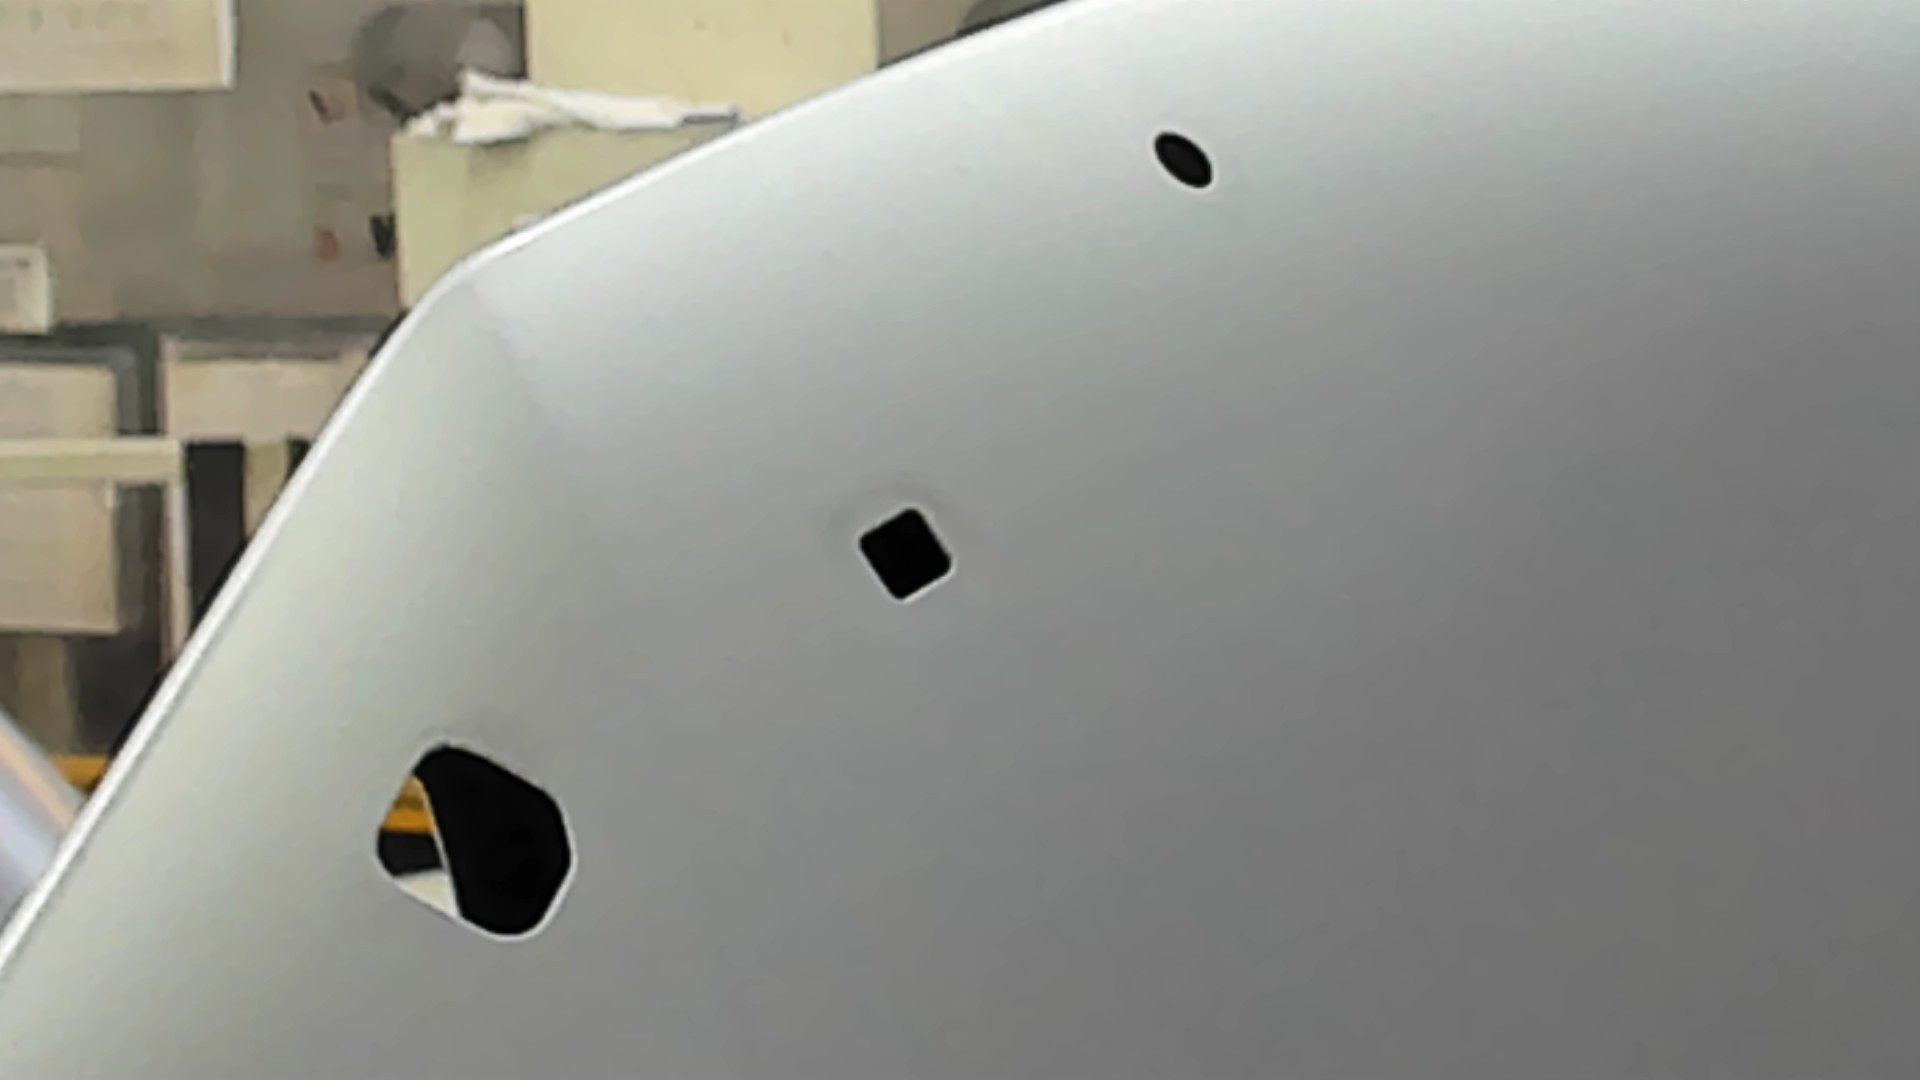chico: (1151, 129, 1218, 193)
grande: (369, 736, 579, 945)
mediano: (851, 504, 961, 608)
